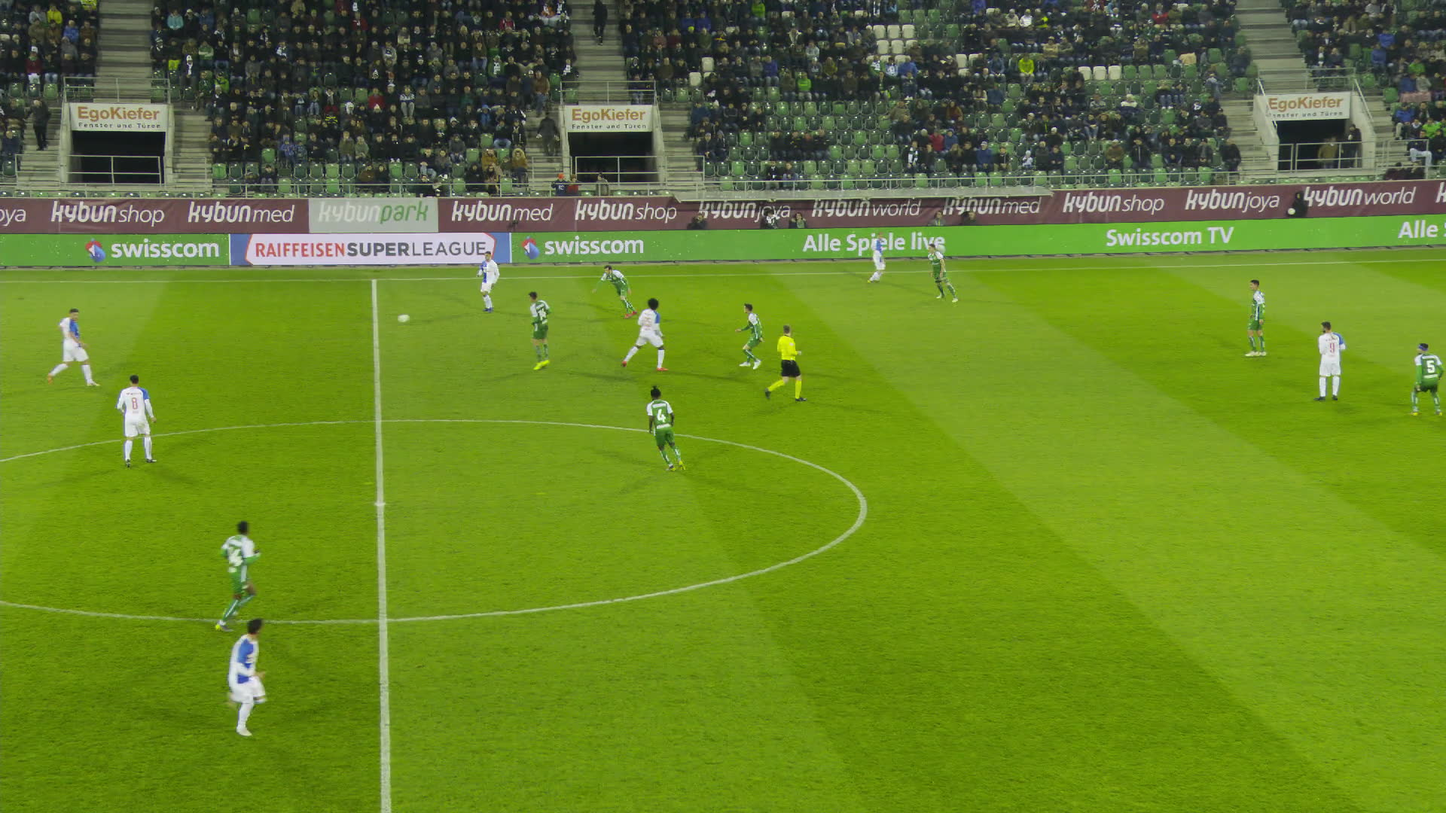ball: (400, 315, 409, 322)
player: (206, 614, 262, 737), (201, 522, 254, 632), (45, 306, 93, 388), (115, 373, 155, 466), (646, 386, 685, 473), (624, 297, 668, 371), (1236, 280, 1271, 357), (1311, 321, 1345, 400), (594, 263, 635, 317), (1414, 343, 1443, 417), (526, 293, 552, 370), (924, 244, 959, 301), (737, 303, 764, 369), (475, 251, 499, 312), (867, 233, 886, 284)
referee: (762, 322, 804, 403)
